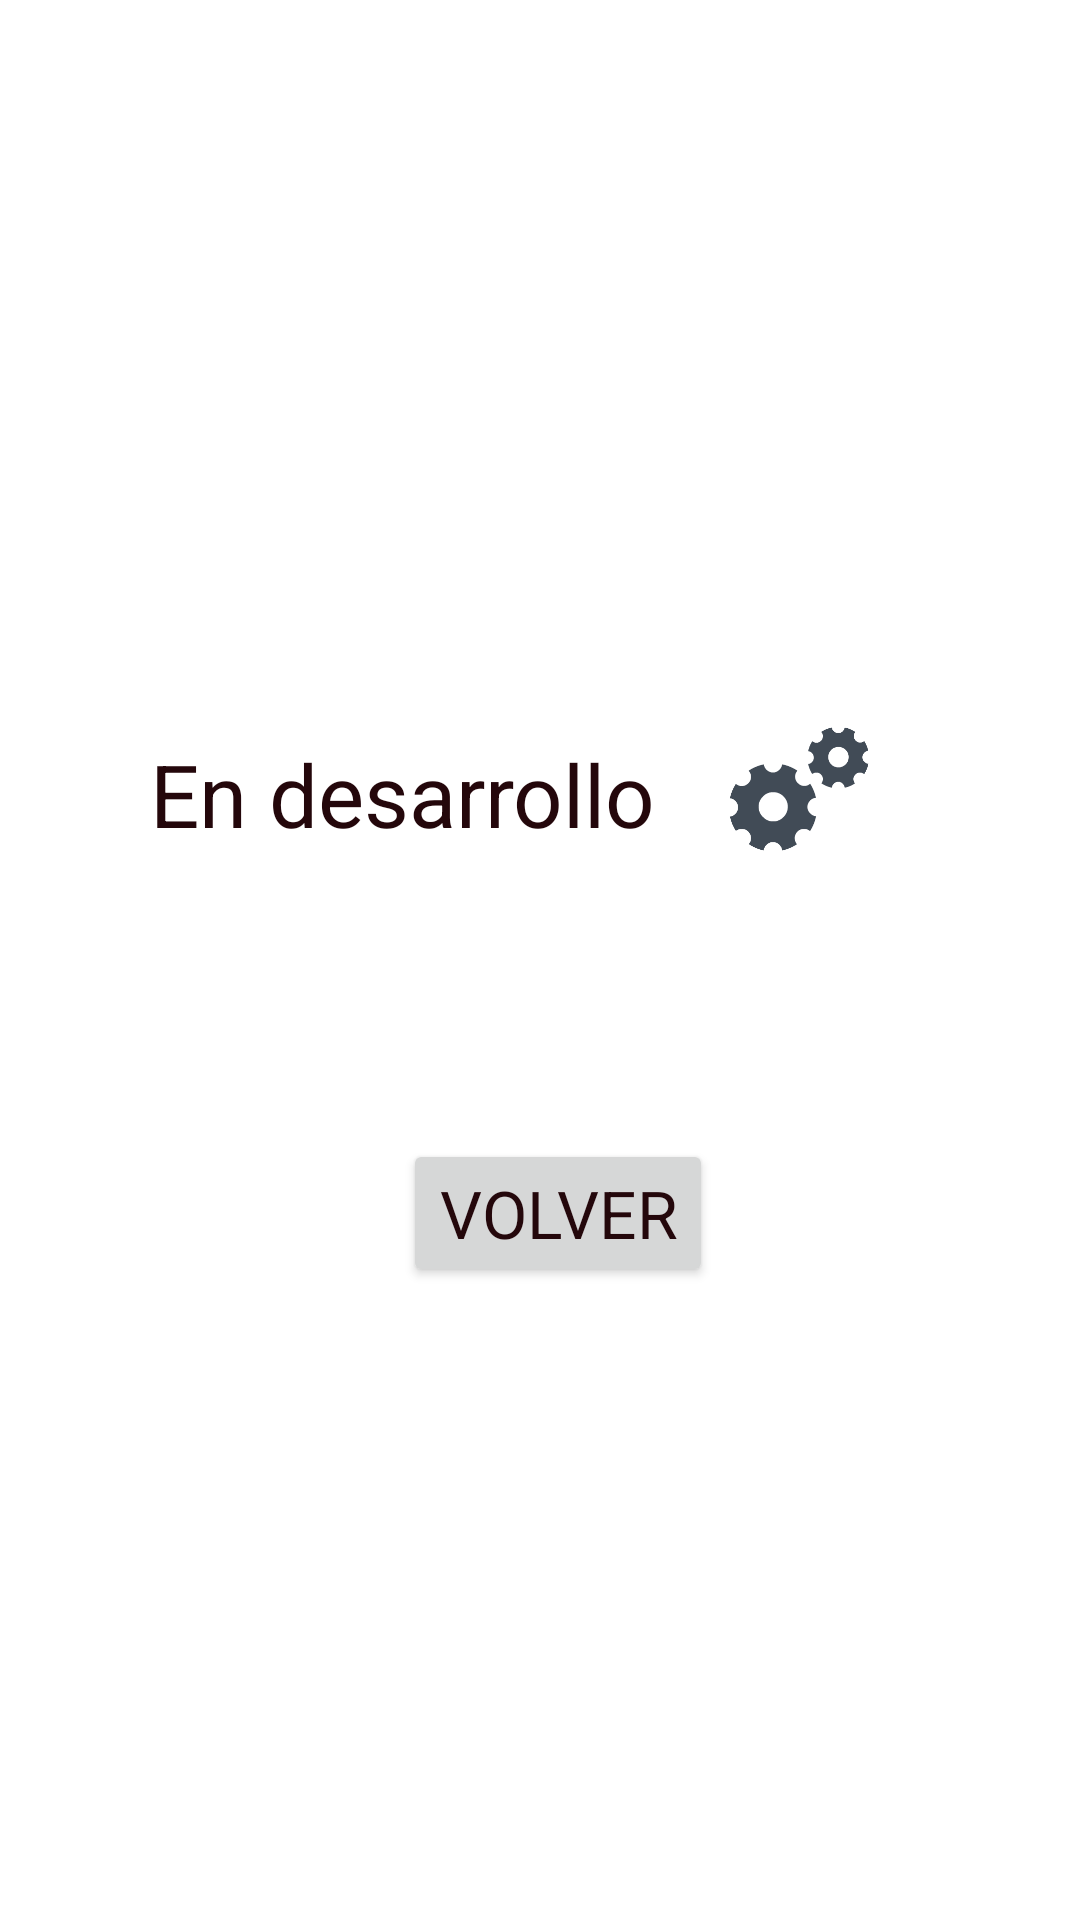

Point at icon controls on the screen. Image size 1080w x 1920h, points as (x=x, y=y).
gif engranaje: (x=799, y=789)
